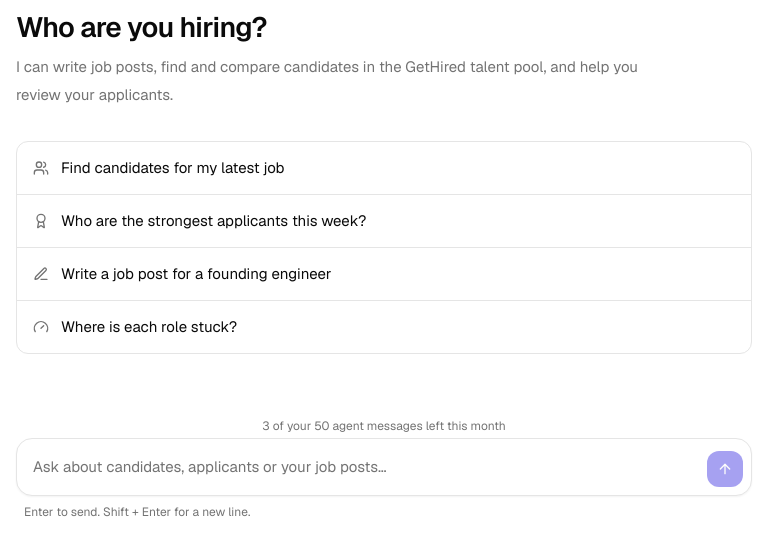
ChatPane's per-member cap hint (RP-REQ-044) › shows the member's agent messages left this month, counting what they send
Check: the text "3 of your 50 agent messages left this month" is shown, box x1=262 y1=418 x2=506 y2=434
Click the button "Find candidates for my latest job" at (173, 168), box x1=17 y1=142 x2=751 y2=194
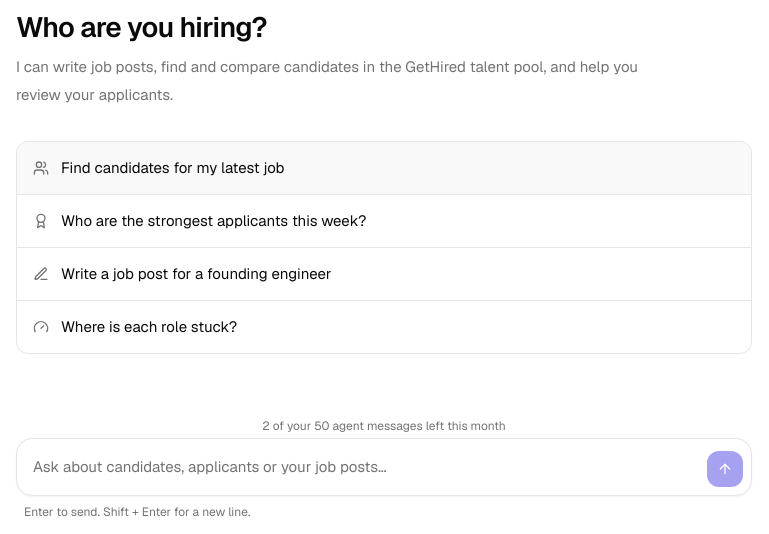
Check: the text "2 of your 50 agent messages left this month" is shown, box x1=262 y1=418 x2=506 y2=434
